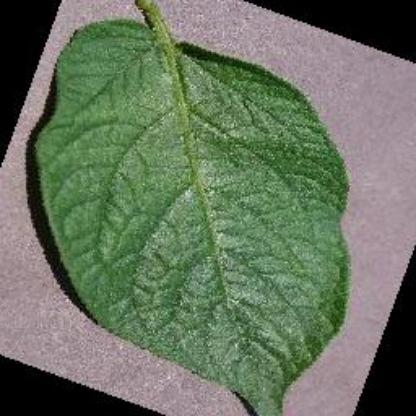Healthy-plant: (25, 0, 349, 416)
